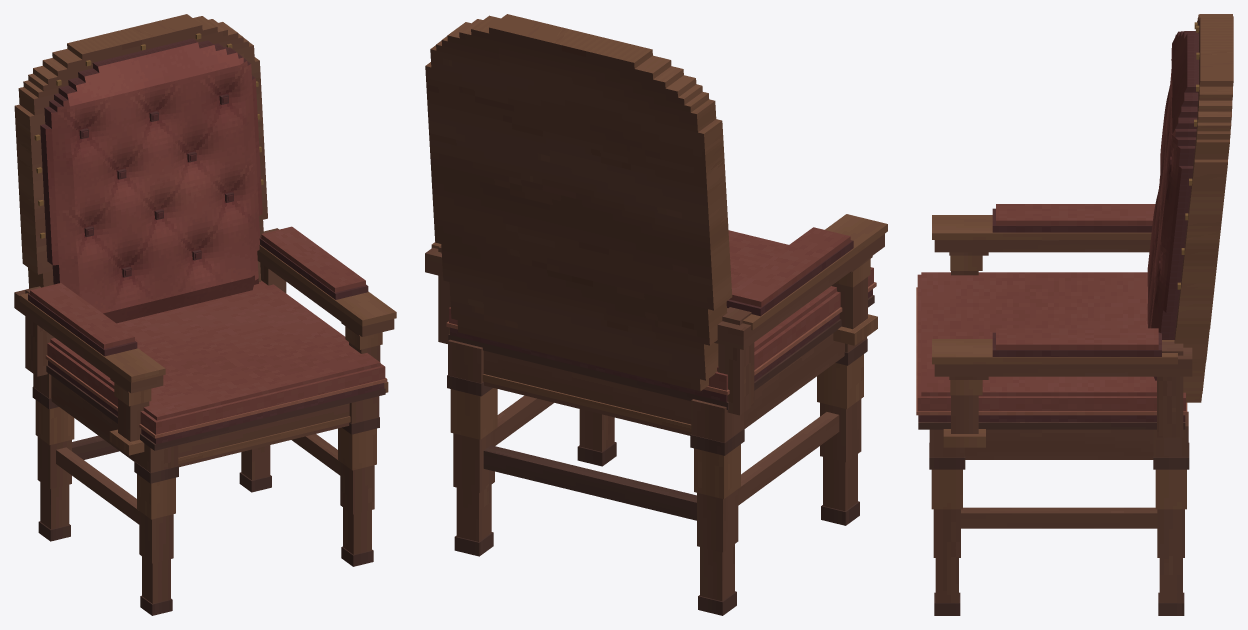
The model's file is IvanDeskChair.glb.
3 renders of one model, left to right at view 1: azimuth 30°, elevation 25°; view 2: azimuth 150°, elevation 25°; view 3: azimuth 270°, elevation 25°, orthographic. The views are drawn at different scales.
Visible parts, largest first — view 1: Tufted back, Seat cushion, Underframe, Arms, Back frame, Seat rails, Arm supports, Leather buttons; view 2: Back frame, Underframe, Seat rails, Arms, Seat cushion, Arm supports; view 3: Seat cushion, Arms, Underframe, Back frame, Tufted back, Seat rails, Arm supports.
Part boxes in pixels (bbox=[...]): Tufted back: bbox=[40, 38, 262, 323]; Seat cushion: bbox=[45, 280, 387, 450]; Underframe: bbox=[32, 373, 379, 615]; Arms: bbox=[14, 226, 396, 393]; Back frame: bbox=[14, 14, 267, 288]; Seat rails: bbox=[51, 375, 350, 467]; Arm supports: bbox=[25, 229, 388, 455]; Leather buttons: bbox=[79, 94, 233, 277]; Back frame: bbox=[425, 14, 732, 391]; Underframe: bbox=[447, 337, 867, 615]; Seat rails: bbox=[482, 333, 844, 435]; Arms: bbox=[425, 214, 887, 349]; Seat cushion: bbox=[446, 230, 876, 409]; Arm supports: bbox=[438, 245, 877, 415]; Seat cushion: bbox=[916, 272, 1187, 429]; Arms: bbox=[932, 204, 1192, 376]; Underframe: bbox=[929, 411, 1189, 615]; Back frame: bbox=[1174, 14, 1233, 402]; Tufted back: bbox=[1147, 31, 1198, 380]; Seat rails: bbox=[964, 429, 1153, 459]; Arm supports: bbox=[943, 252, 1183, 447].
Bounding box in the file's own units: 0.636 × 1.06 × 0.5983.
9 materials, 9 textured.
